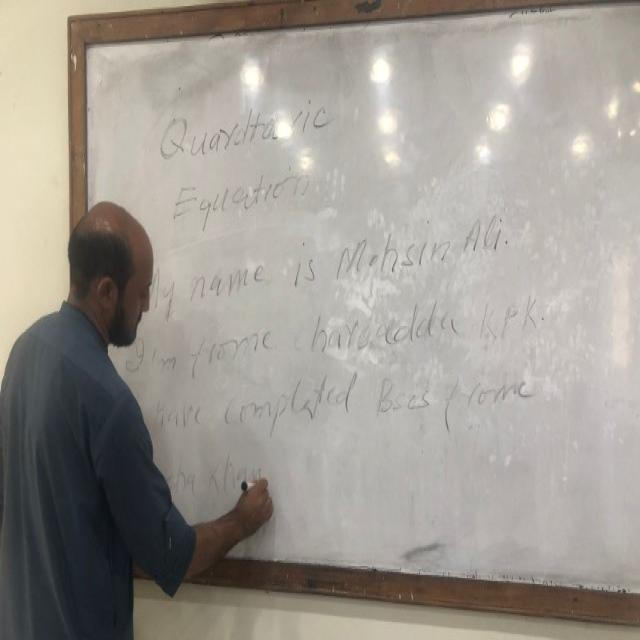Instructor: (28, 195, 164, 638)
White-board: (80, 3, 640, 605)
